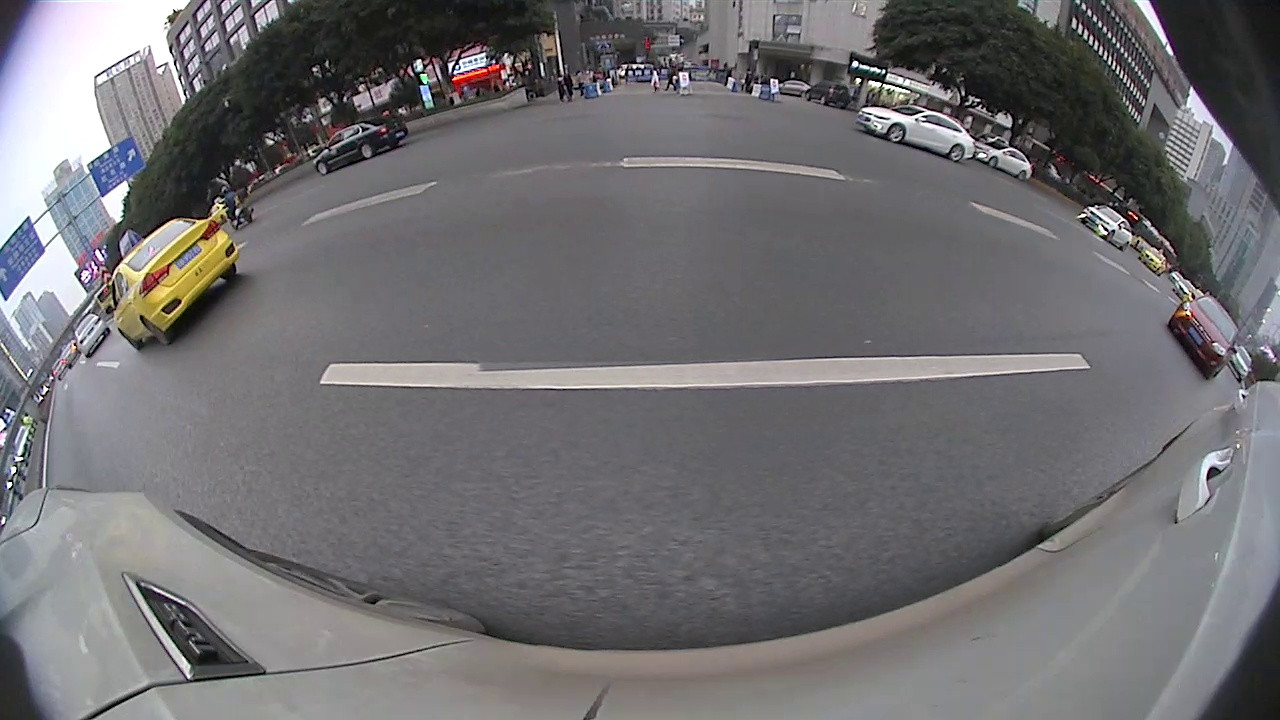car: (108, 217, 242, 350), (856, 102, 975, 164), (307, 114, 407, 178), (1167, 296, 1241, 381), (963, 140, 1032, 181), (1077, 204, 1135, 252), (72, 312, 112, 358)
front: (120, 329, 142, 347), (888, 124, 906, 141), (317, 162, 325, 174)
rear: (140, 317, 171, 344), (951, 144, 963, 161), (362, 146, 373, 158)
rider: (221, 183, 254, 230)
